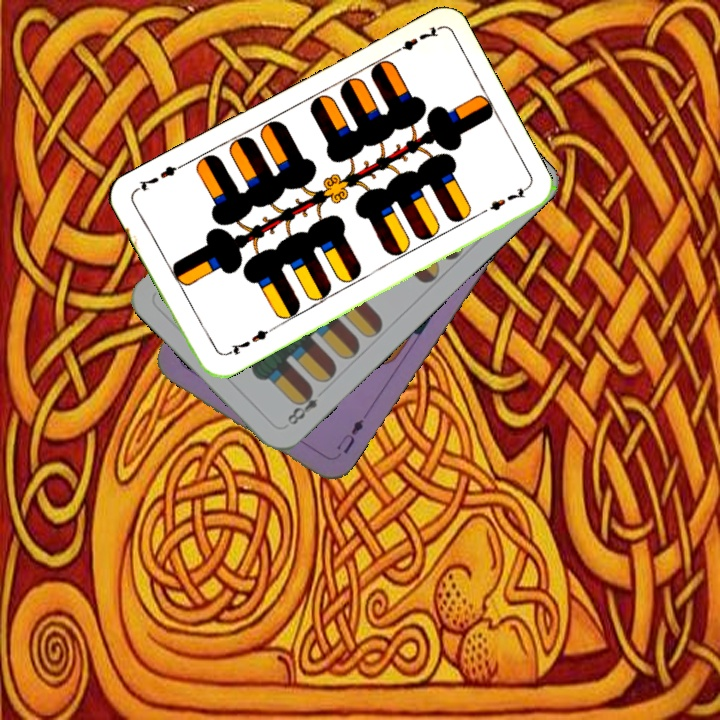E7: (387, 22, 441, 58), (220, 325, 275, 359)
E8: (283, 383, 320, 428)
EU: (332, 414, 366, 456)
